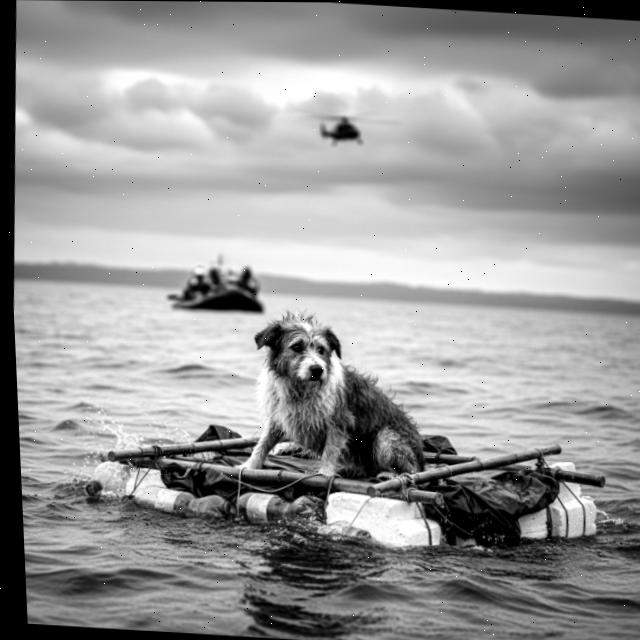dog: (227, 305, 445, 503)
rescuer: (179, 264, 213, 303), (229, 262, 262, 297), (204, 264, 228, 297)
